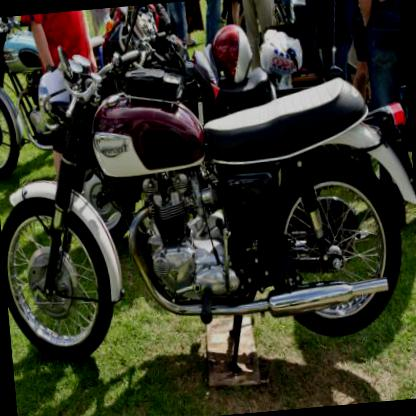motorcycle: (0, 16, 415, 393), (0, 11, 85, 179)
